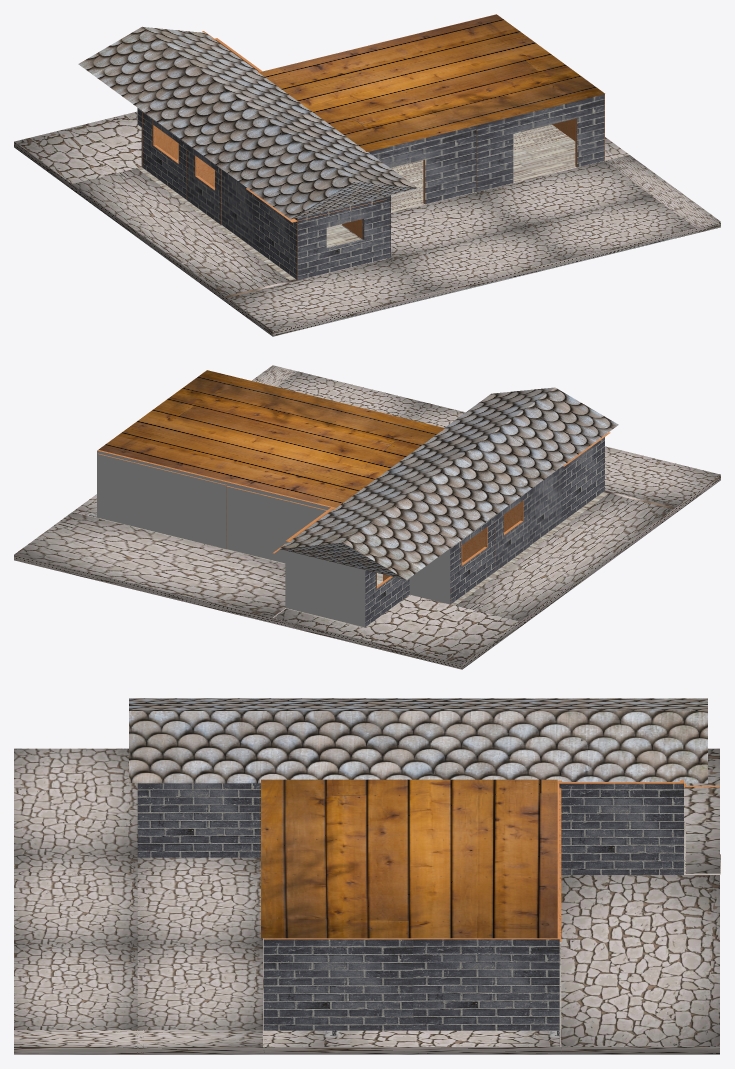
The model's file is Fachada.obj.
3 renders of one model, top to bottom at view 1: azimuth 30°, elevation 25°; view 2: azimuth 150°, elevation 25°; view 3: azimuth 270°, elevation 25°, orthographic. The views are drawn at different scales.
Visible parts, largest first — view 1: polySurface102; view 2: polySurface102; view 3: polySurface102.
Part boxes in pixels (x1,y1,x2,y2): polySurface102: (14, 14, 720, 336); polySurface102: (14, 365, 720, 669); polySurface102: (14, 698, 720, 1054).
Size of the model in its own units: 389 by 77.61 by 389.
